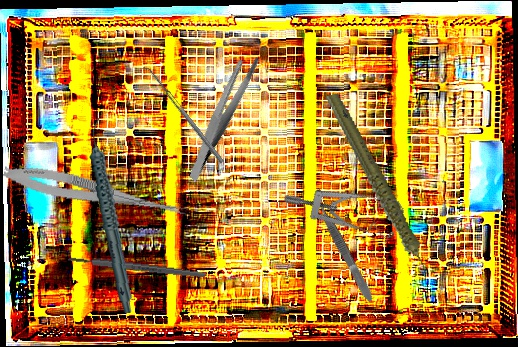Dressing Forceps: (159, 49, 285, 183)
Handpiece: (323, 82, 432, 294), (80, 117, 143, 314)
Micro Scissor: (1, 160, 191, 222)
Scalpel Handle: (68, 254, 206, 280)
Spatula Surgical: (140, 63, 225, 167)
Speculum: (281, 146, 412, 264)
Tissue Forceps: (312, 195, 376, 304)
